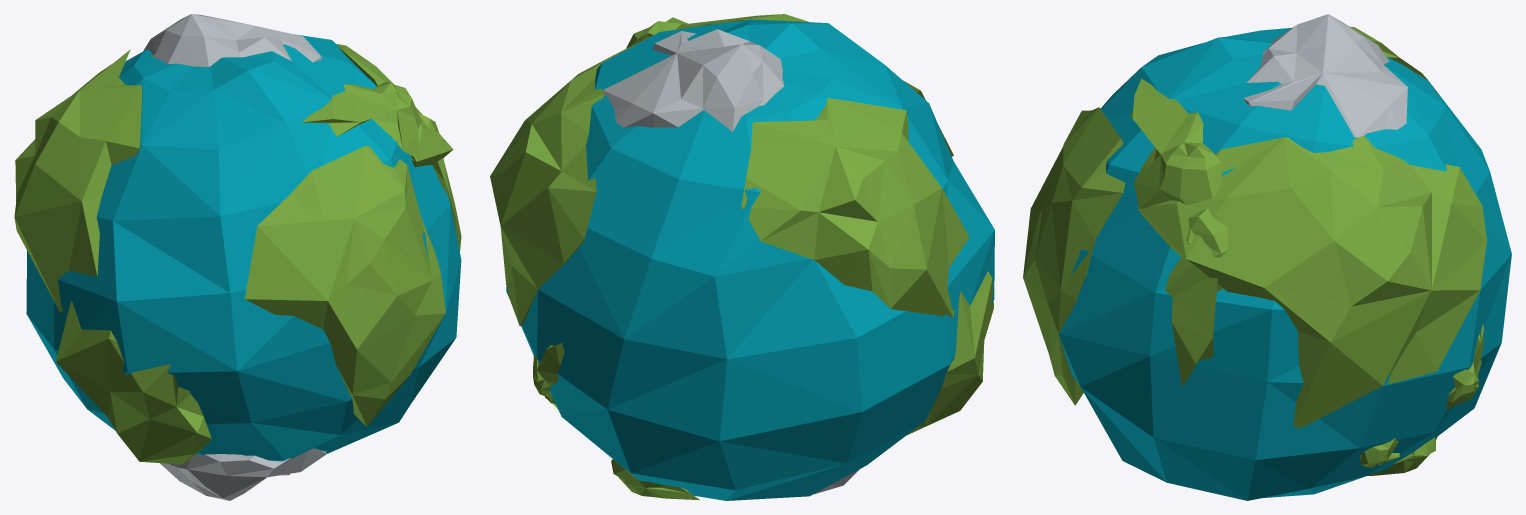
The model's file is Earth.glb.
The picture shows the model from 3 angles, left to right: view 1: azimuth 30°, elevation 25°; view 2: azimuth 150°, elevation 25°; view 3: azimuth 270°, elevation 25°; orthographic projection. The views are drawn at different scales.
Visible parts, largest first — view 1: node_MeshObject-2024788544-PolyPaper13.002; view 2: node_MeshObject-2024788544-PolyPaper13.002; view 3: node_MeshObject-2024788544-PolyPaper13.002.
Boxes of the visible parts, x1,y1,x2,y2 form: node_MeshObject-2024788544-PolyPaper13.002: (14, 14, 461, 500); node_MeshObject-2024788544-PolyPaper13.002: (490, 14, 994, 500); node_MeshObject-2024788544-PolyPaper13.002: (1023, 14, 1511, 500).
Bounding box in the file's own units: 0.352 × 0.3803 × 0.3532.
